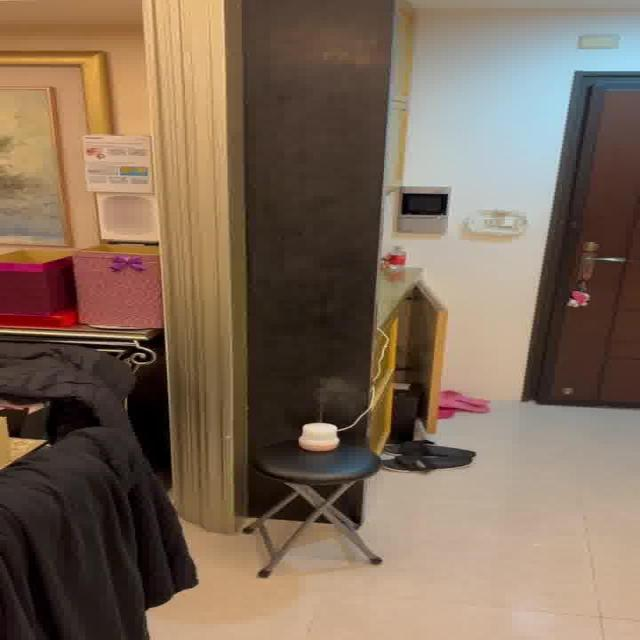fire: (306, 373, 354, 417)
